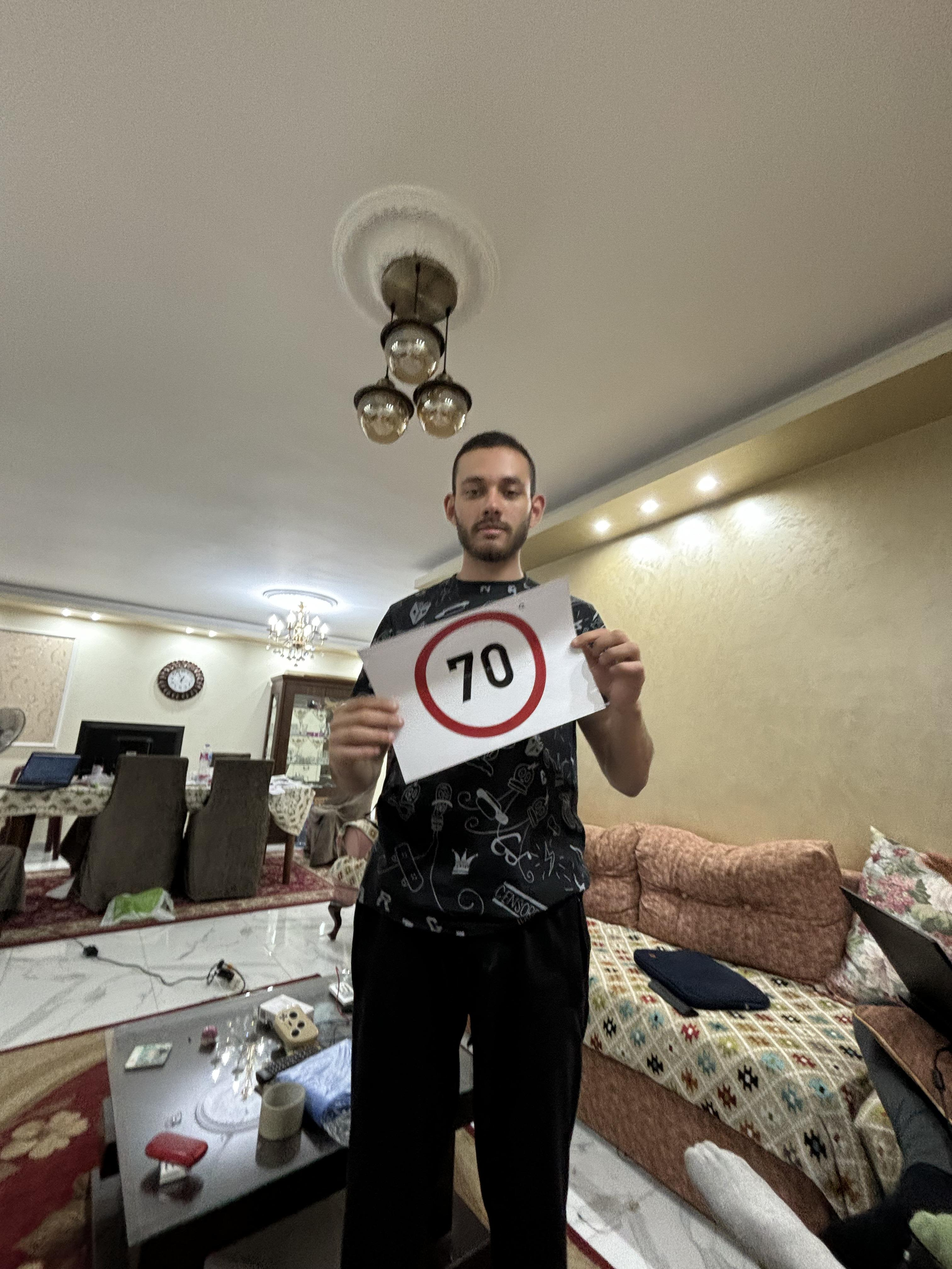70-Speed: (410, 608, 551, 741)
